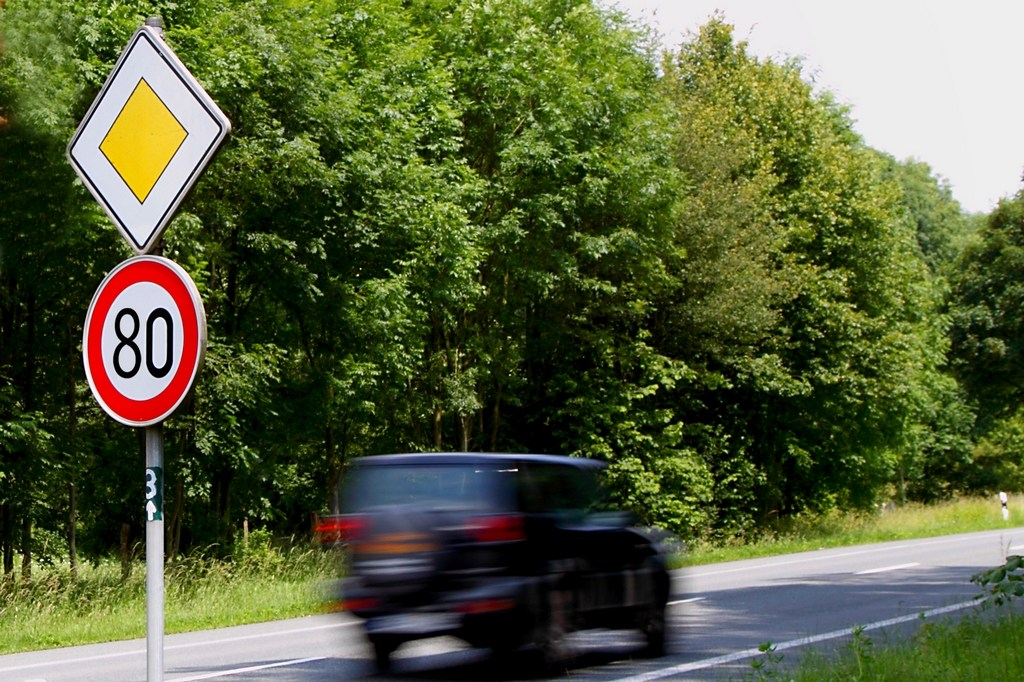Speed_limit_80km: (81, 252, 209, 427)
